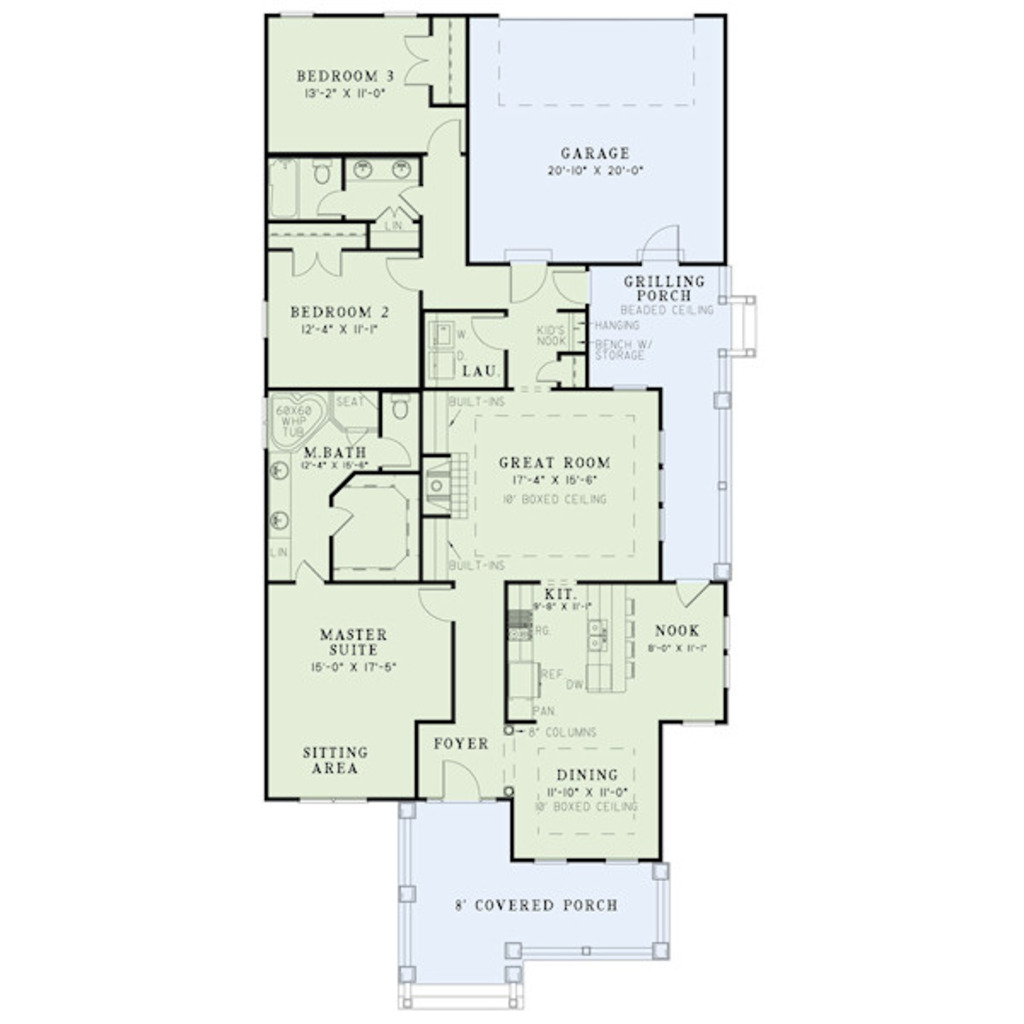door: (627, 224, 689, 278), (405, 24, 441, 101), (500, 247, 551, 301), (435, 751, 489, 801), (281, 243, 346, 282), (378, 252, 429, 297), (418, 120, 475, 160), (548, 262, 592, 311), (467, 311, 511, 355), (416, 584, 459, 627), (316, 506, 356, 539), (378, 433, 411, 471), (527, 355, 568, 384), (313, 187, 346, 220), (395, 189, 430, 220), (373, 206, 421, 228), (289, 563, 327, 589)
kitchen_bar: (584, 584, 652, 698)
large_sink: (306, 154, 340, 192)
tub: (256, 151, 300, 236)
twin_sink: (579, 617, 611, 658)
